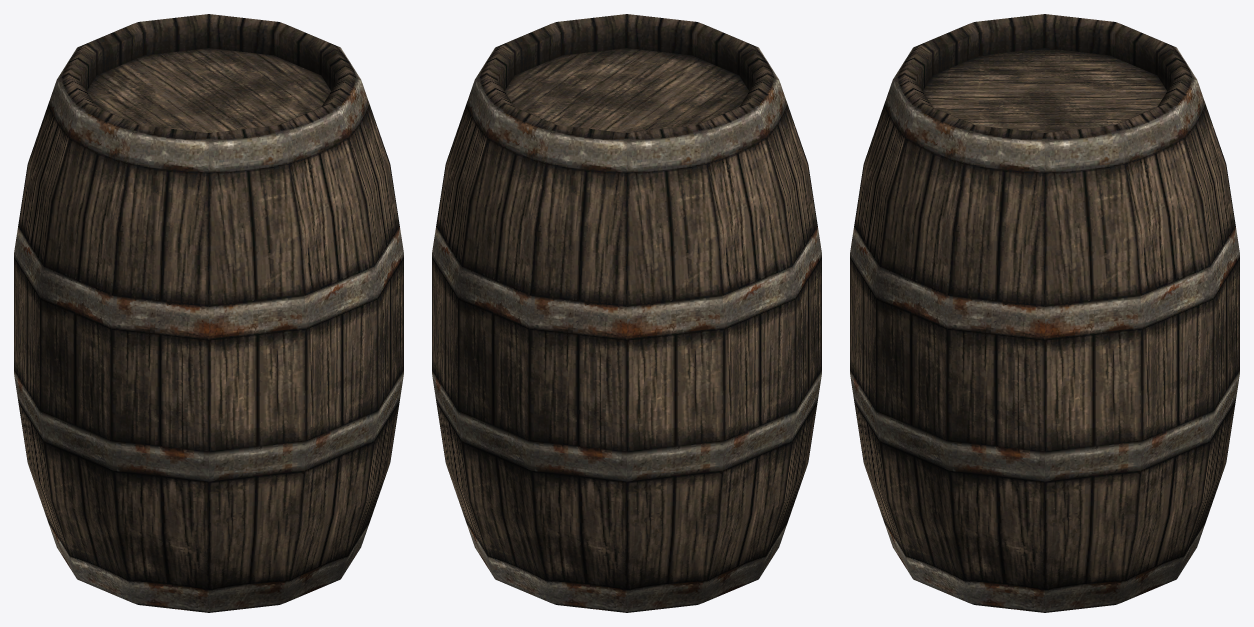
File: barrel01.dae
3 renders of one model, left to right at view 1: azimuth 30°, elevation 25°; view 2: azimuth 150°, elevation 25°; view 3: azimuth 270°, elevation 25°, orthographic.
Parts seen in each view (by area): view 1: barrel_mesh; view 2: barrel_mesh; view 3: barrel_mesh.
Boxes of the visible parts, box(x1,y1,x2,y2) form: barrel_mesh: box(14, 14, 403, 612); barrel_mesh: box(432, 14, 821, 612); barrel_mesh: box(850, 14, 1239, 612).
Size of the model in its own units: 0.6805 by 0.9243 by 0.6805.
